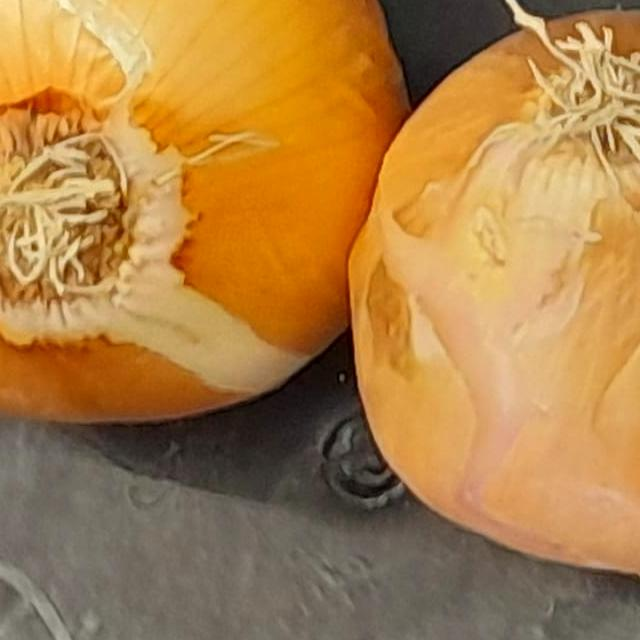onion: (337, 0, 640, 590), (0, 0, 390, 452)
